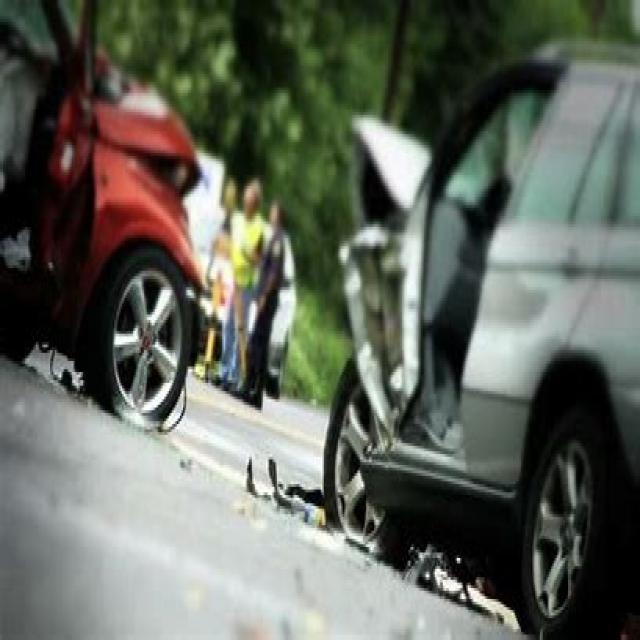Accident: (333, 123, 606, 640), (27, 33, 214, 420)
